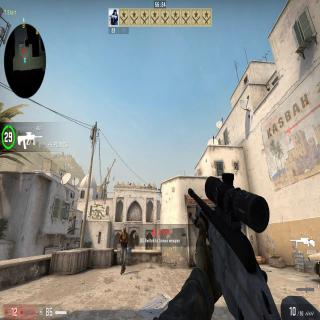T-Body: (118, 226, 130, 275)
T-Head: (122, 226, 126, 234)
